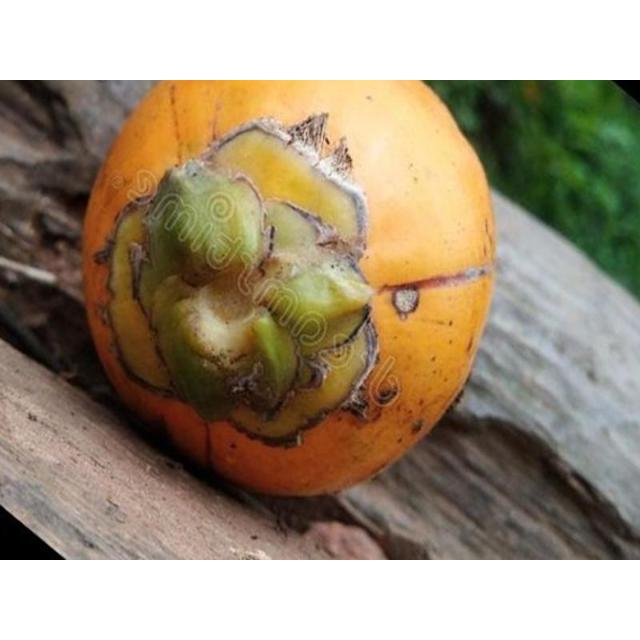good: (81, 80, 498, 501)
